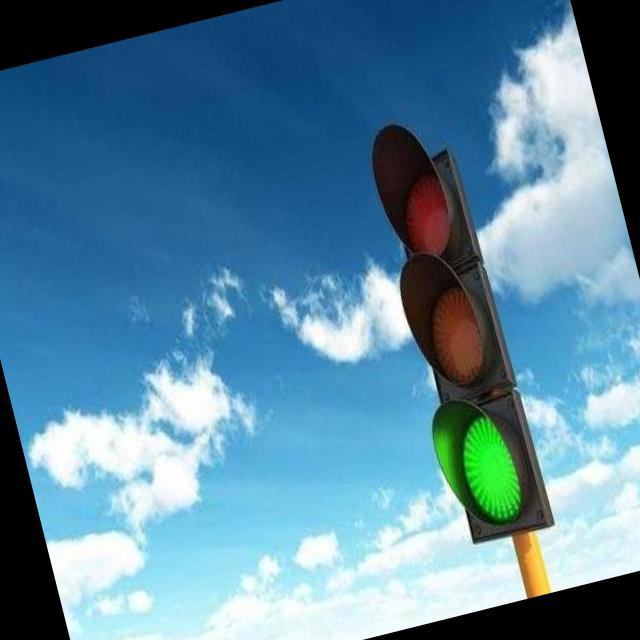green-lights: (424, 383, 552, 554)
